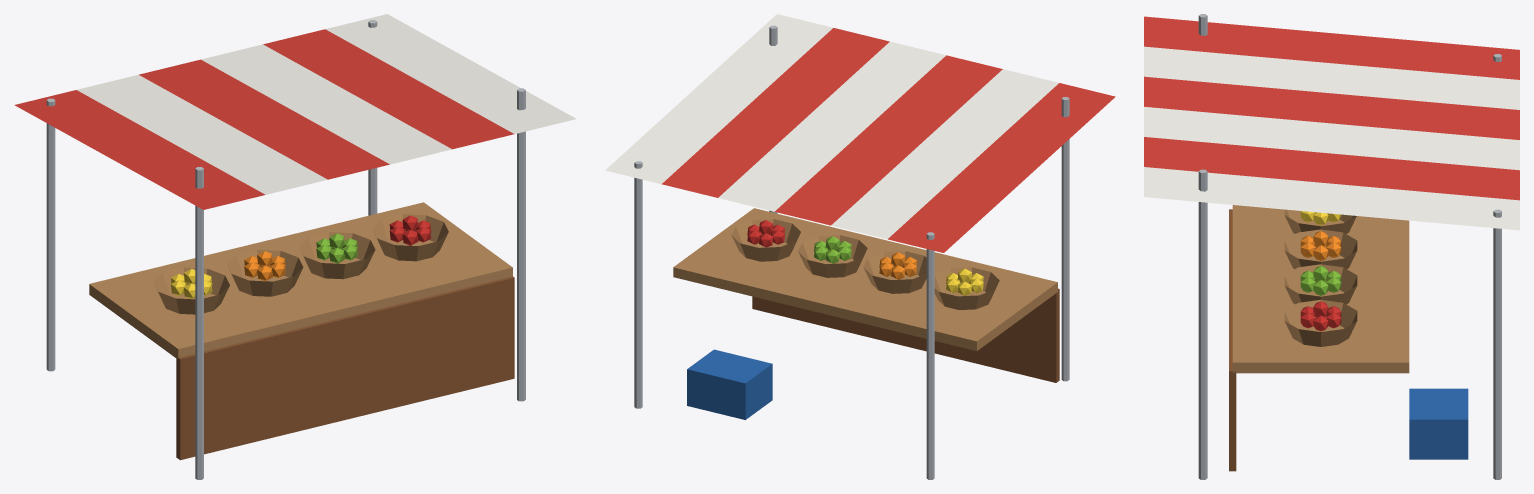
Rendered from BLD_MarketStall_Red.fbx.
The picture shows the model from 3 angles, left to right: view 1: azimuth 30°, elevation 25°; view 2: azimuth 150°, elevation 25°; view 3: azimuth 270°, elevation 25°; orthographic projection. The views are drawn at different scales.
Visible parts, largest first — view 1: BLD_MarketStall_Red; view 2: BLD_MarketStall_Red; view 3: BLD_MarketStall_Red.
Boxes of the visible parts, x1,y1,x2,y2 form: BLD_MarketStall_Red: (14, 14, 576, 479); BLD_MarketStall_Red: (605, 14, 1115, 479); BLD_MarketStall_Red: (1144, 14, 1519, 479).
Size of the model in its own units: 2.9 by 2.3 by 2.55.
